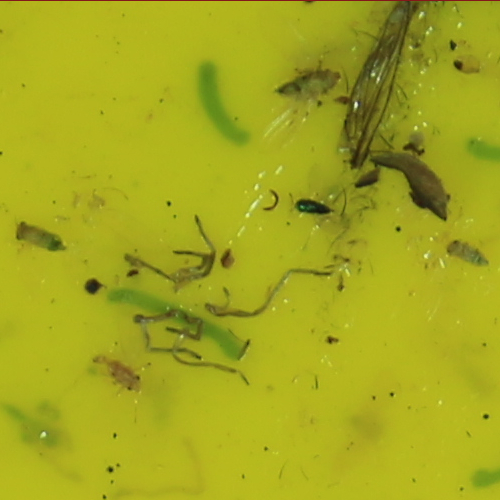Glycaspis: (444, 233, 492, 269), (14, 222, 66, 255), (106, 357, 143, 395)
Psyllaephagus: (293, 197, 332, 217)
